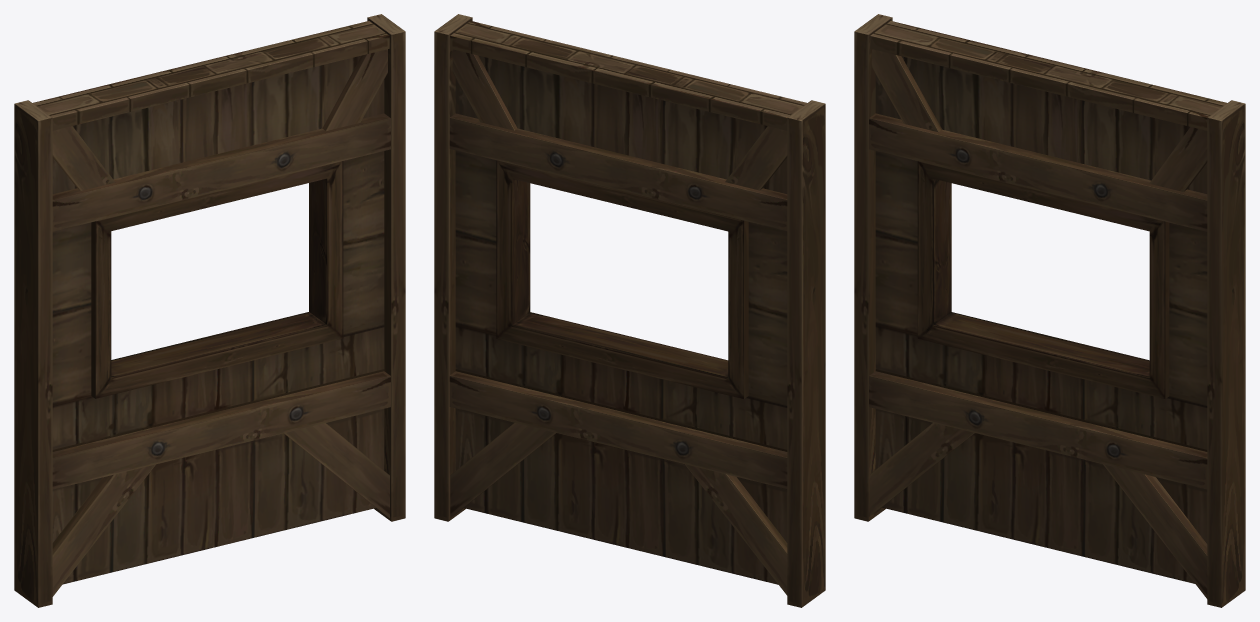
File: mf_window021.FBX
3 renders of one model, left to right at view 1: azimuth 30°, elevation 25°; view 2: azimuth 150°, elevation 25°; view 3: azimuth 330°, elevation 25°, orthographic.
Visible parts, largest first — view 1: mf_window021; view 2: mf_window021; view 3: mf_window021.
Part boxes in pixels (bbox=[...]): mf_window021: bbox=[14, 14, 405, 607]; mf_window021: bbox=[434, 14, 825, 607]; mf_window021: bbox=[854, 14, 1245, 607].
Bounding box in the file's own units: 1.99 × 2.52 × 0.2251.
1 material, 1 textured.
